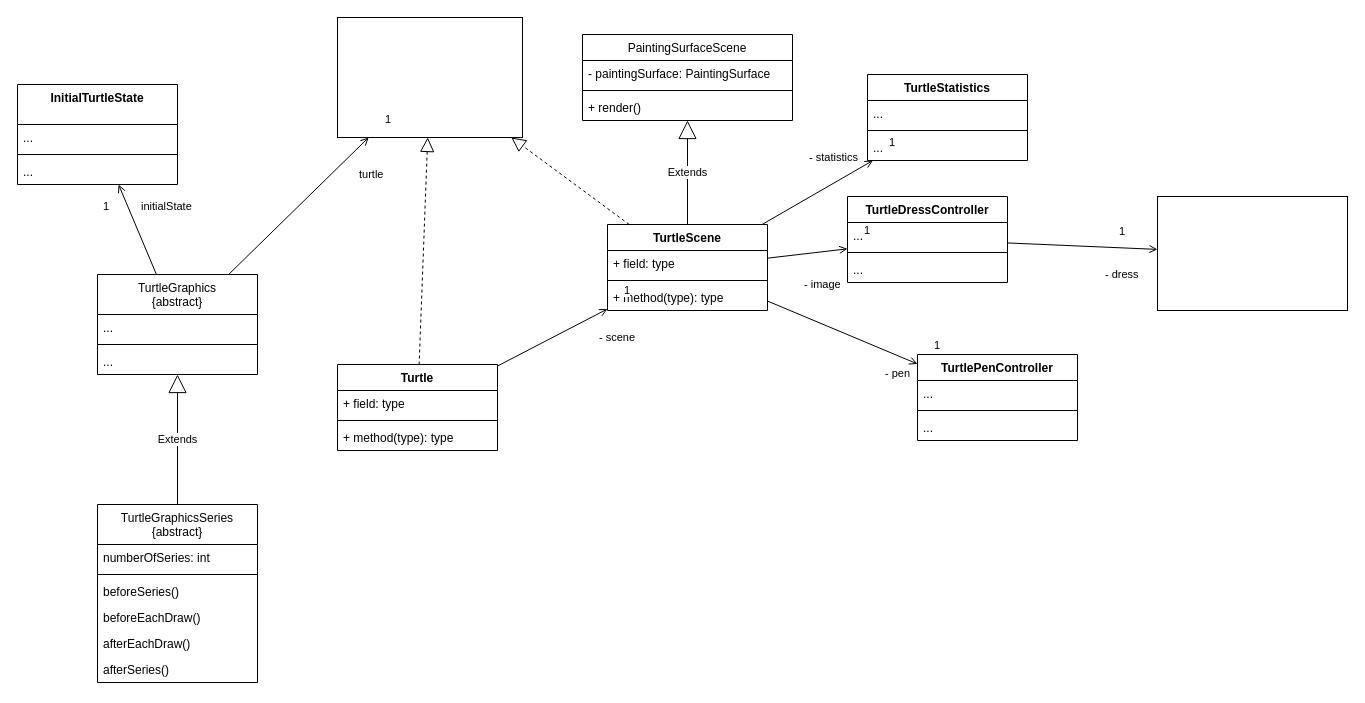
Some shapes in this 1365 by 703 pixel diagram are drawn without their labels. Each missing label, with the centre of its shape:
<<Enumeration>> TurtleDressType ANIMATED_IMAGE ARROW DOT: (x=1252, y=253)
TurtleController forward(distance: double) backward(distance: double): (x=429, y=77)
